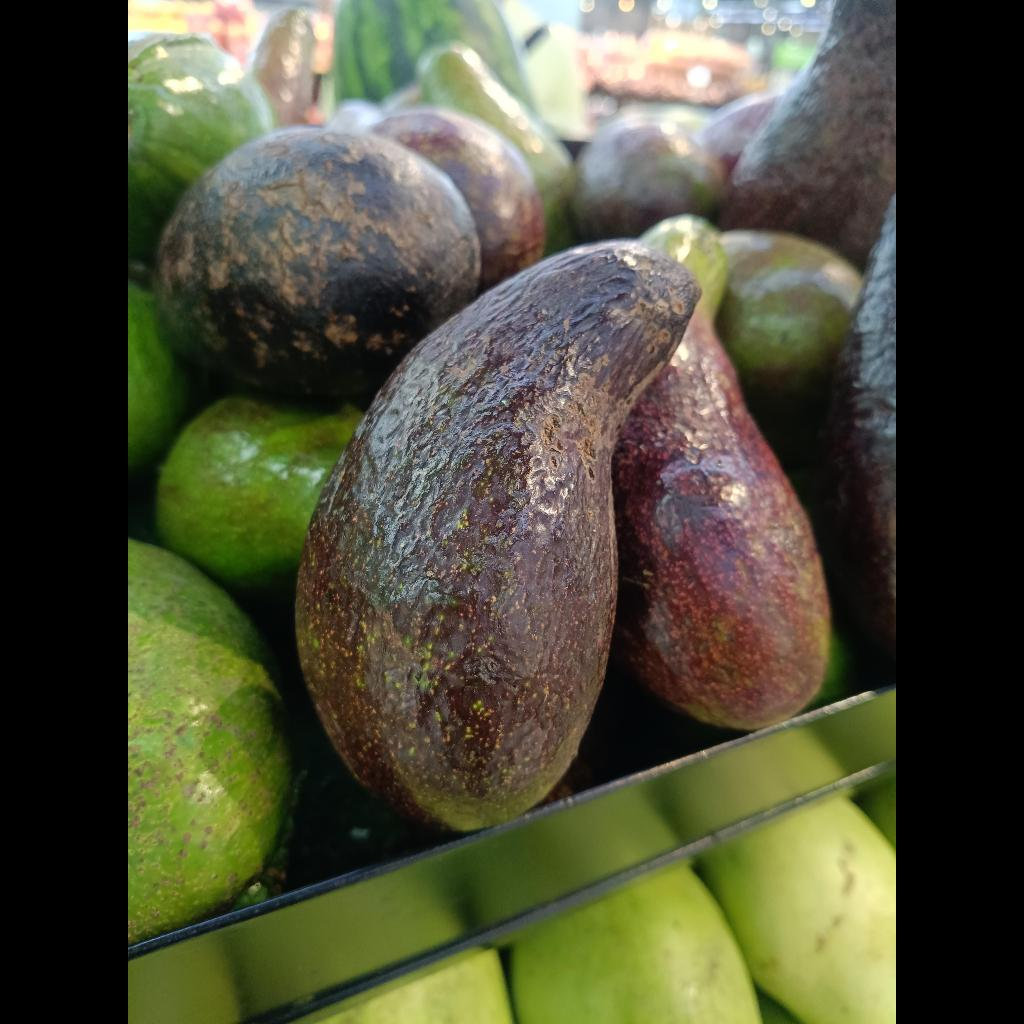rona: (296, 239, 699, 831)
